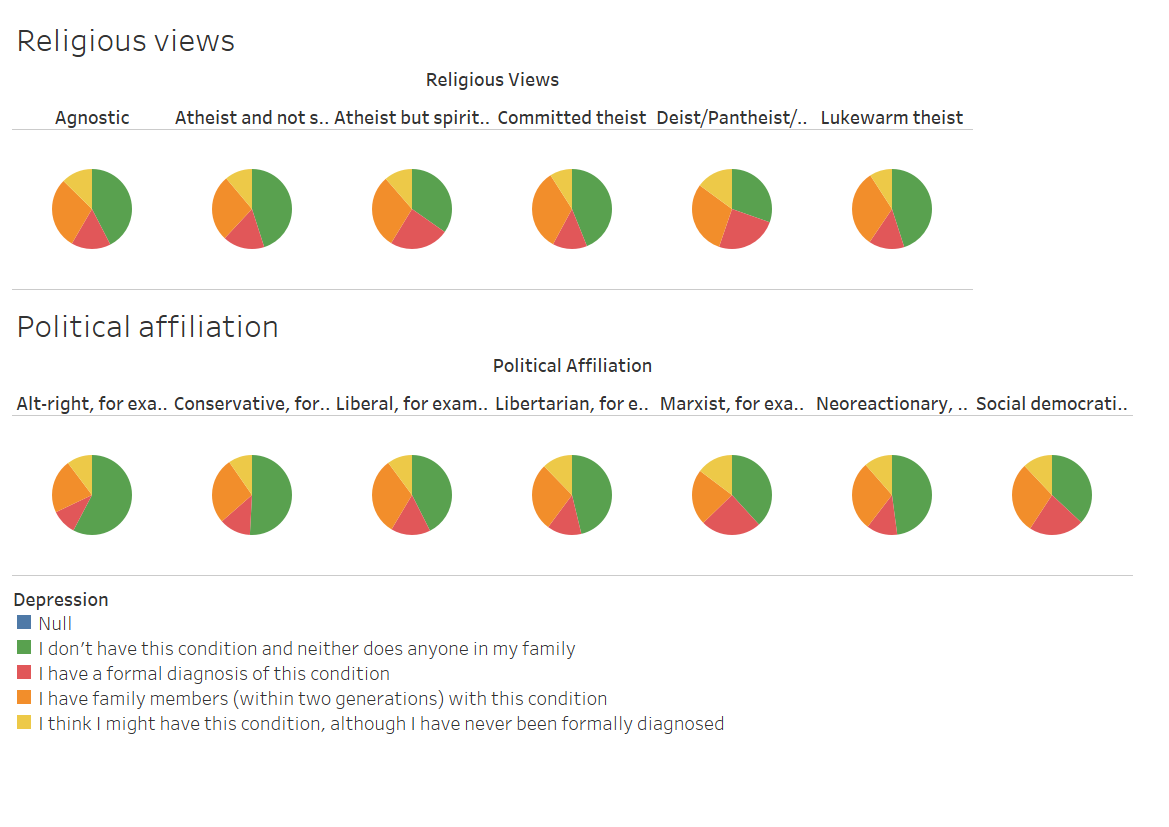

What the dashboard file says about the page in this screenshot:
{"tool":"tableau","page":{"name":"Politics","canvas":[1169,827],"ordinal":0},"visuals":[{"type":"worksheet","title":"Religious views","mark":"Pie","cols":["Religious Views"],"box":[8,8,1153,286]},{"type":"worksheet","title":"Political affiliation","mark":"Pie","cols":["Political Affiliation"],"box":[8,294,1153,286]},{"type":"legend","title":"Religious views","param":"[federated.191r09f0r61qf7148hszc0asv06k].[none:Depression:nk]","box":[8,580,1153,159]}]}

Visuals, with their boxes in screenshot pixels (x1, y1, x2, y2), scaled from the page's 1169x827 canvas onto the 1169x827 screenshot:
"Religious views" worksheet (Pie marks): (8,8,1161,294)
"Political affiliation" worksheet (Pie marks): (8,294,1161,580)
"Religious views" legend: (8,580,1161,739)
